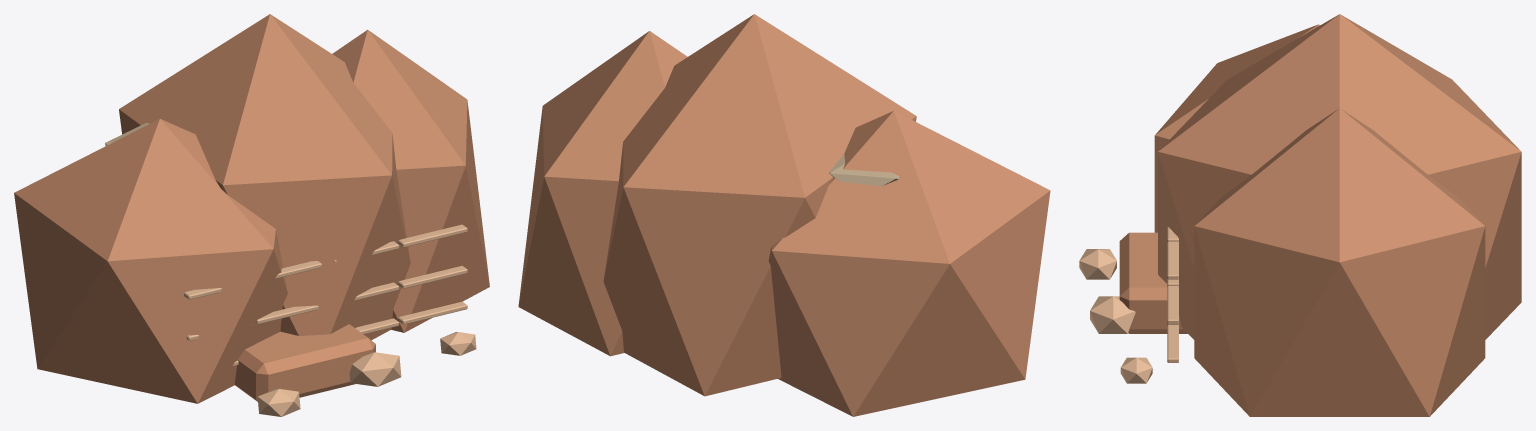
3 views of the same model, side by side, from view 1: azimuth 30°, elevation 25°; view 2: azimuth 150°, elevation 25°; view 3: azimuth 270°, elevation 25° (orthographic). The views are drawn at different scales.
Visible parts, largest first — view 1: RF-001 Exposed clay gathering bank batched; view 2: RF-001 Exposed clay gathering bank batched; view 3: RF-001 Exposed clay gathering bank batched.
Part boxes in pixels (left/top/right/bottom): RF-001 Exposed clay gathering bank batched: left=14, top=14, right=489, bottom=416; RF-001 Exposed clay gathering bank batched: left=518, top=14, right=1050, bottom=416; RF-001 Exposed clay gathering bank batched: left=1079, top=14, right=1521, bottom=416.
Size of the model in its own units: 2.57 by 1.65 by 2.07.
